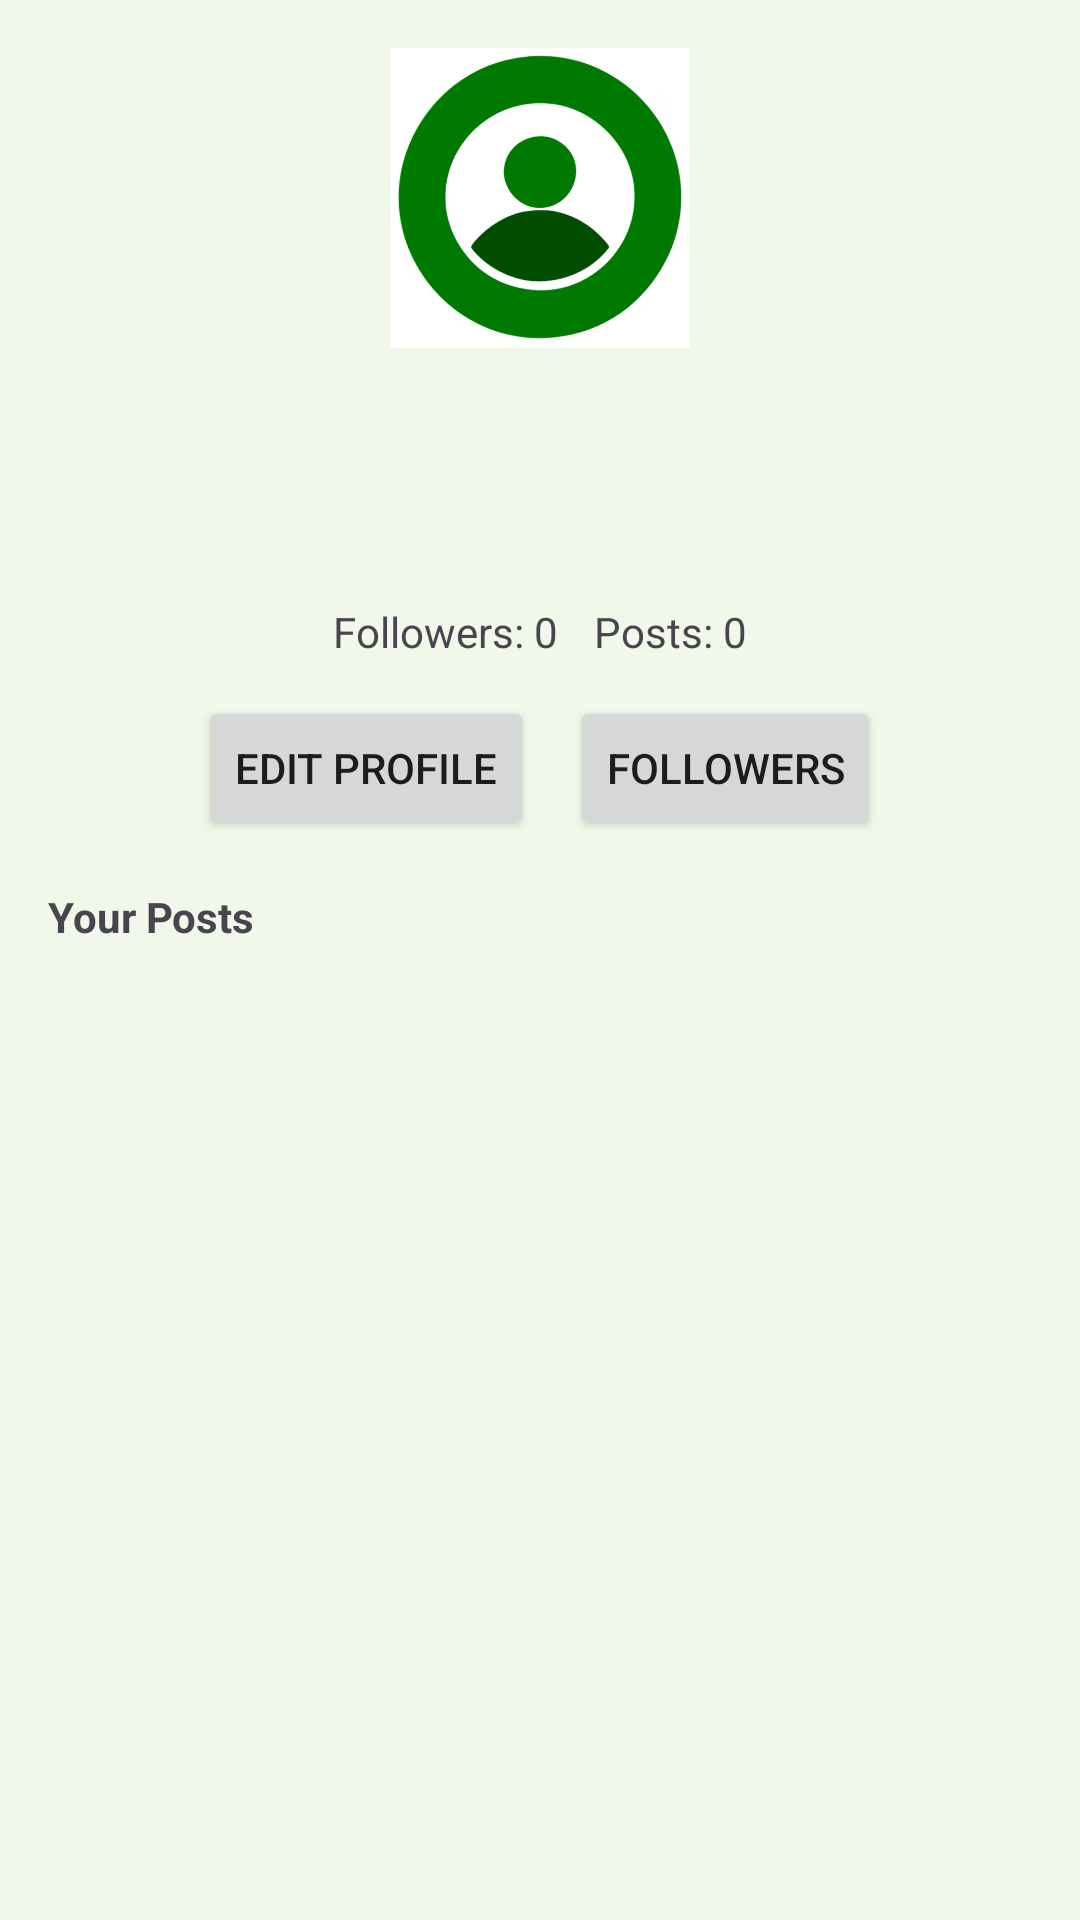

Icon click points for this 1080px×1920px phone screenshot, format point (x, y):
userprofile: point (540, 197)
